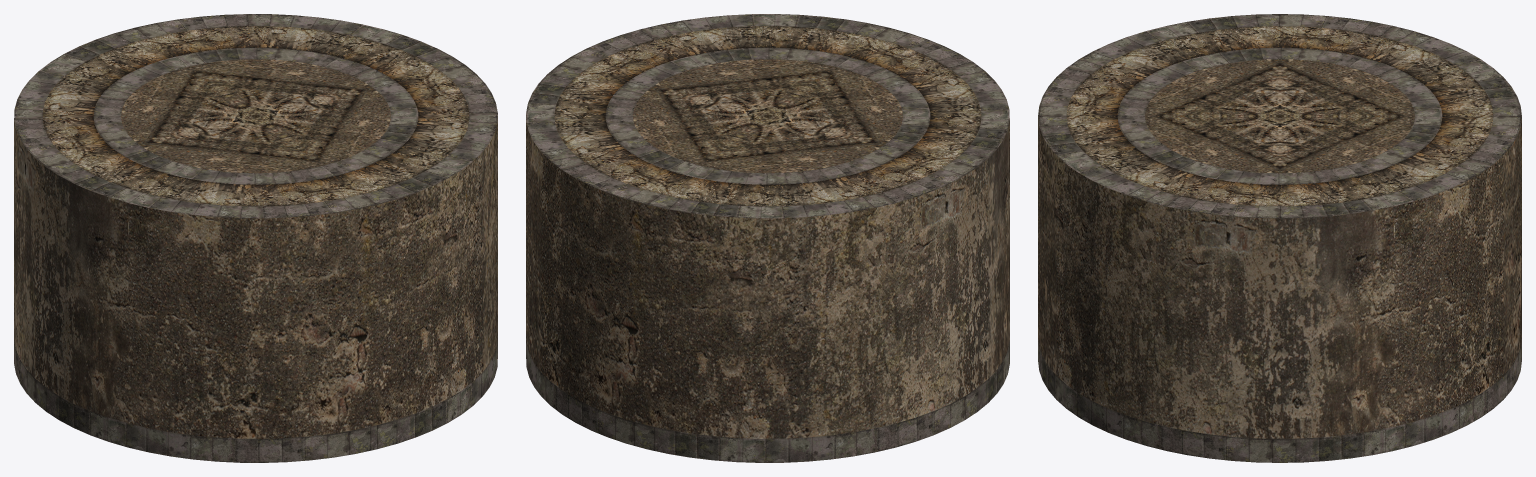
Rendered from materials_5_pillar_fat_13.fbx.
3 renders of one model, left to right at view 1: azimuth 30°, elevation 25°; view 2: azimuth 150°, elevation 25°; view 3: azimuth 270°, elevation 25°, orthographic.
Visible parts, largest first — view 1: materials_5_pillar_fat_13; view 2: materials_5_pillar_fat_13; view 3: materials_5_pillar_fat_13.
Part boxes in pixels (<box>): materials_5_pillar_fat_13: <box>14,14,497,462</box>; materials_5_pillar_fat_13: <box>526,14,1009,462</box>; materials_5_pillar_fat_13: <box>1038,14,1521,462</box>.
Bounding box in the file's own units: 135 × 75.07 × 135.
